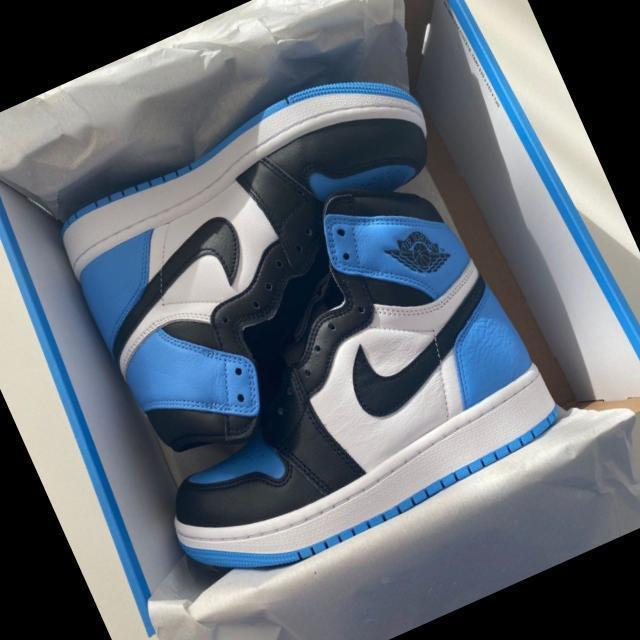nike original jordan 1: (72, 138, 588, 604), (40, 45, 523, 472)
